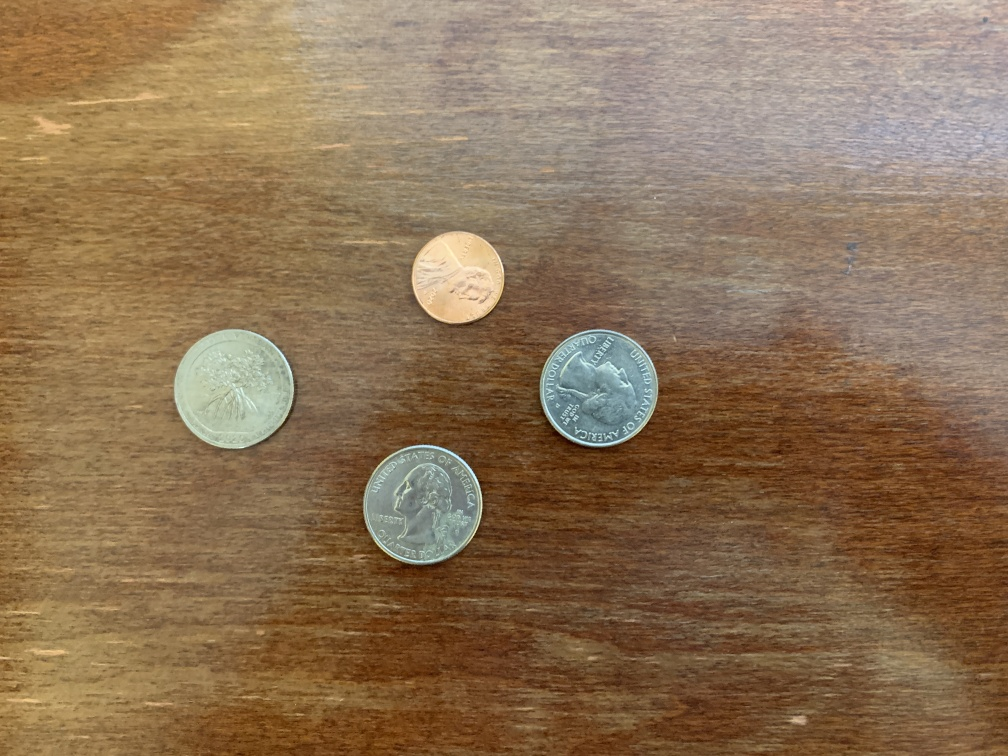penny: (407, 226, 510, 324)
quarter: (168, 324, 300, 457), (359, 439, 487, 571), (536, 324, 663, 455)
